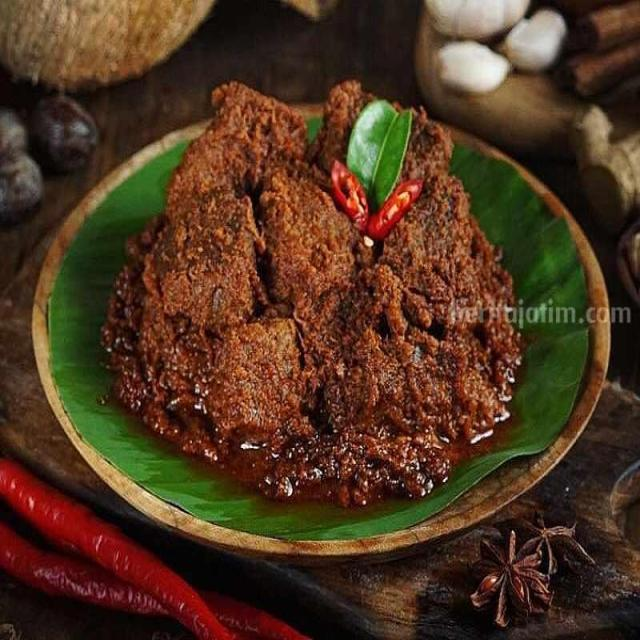Rendang: (134, 63, 529, 501)
